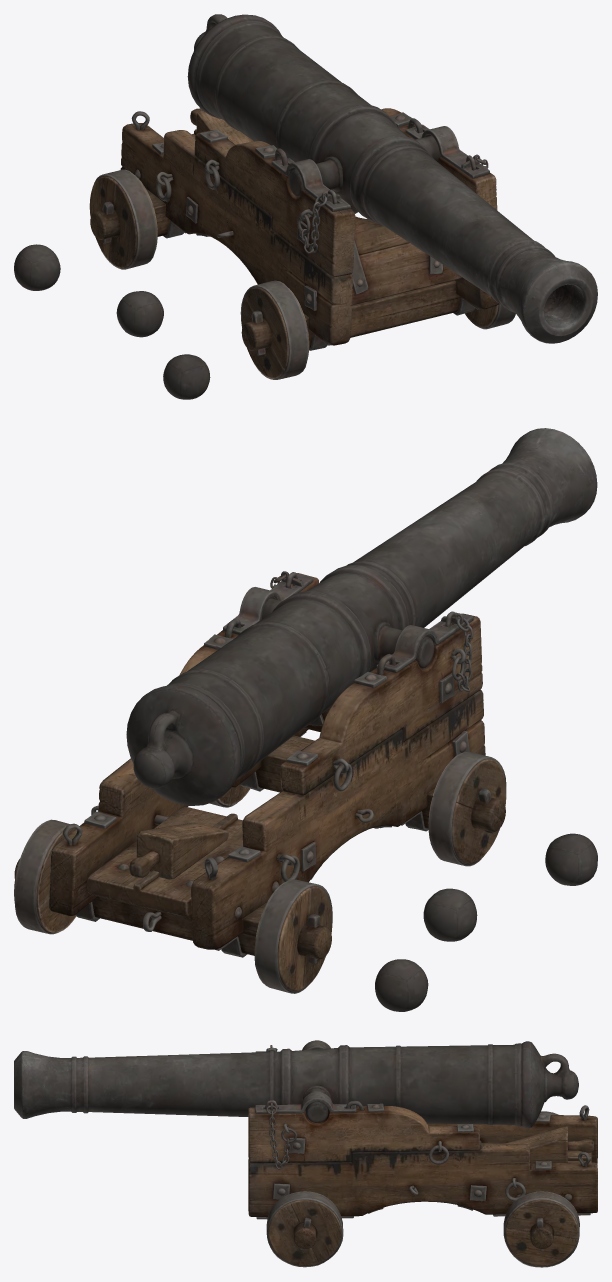
Rendered from cannon_01.glb.
The picture shows the model from 3 angles, top to bottom: view 1: azimuth 30°, elevation 25°; view 2: azimuth 150°, elevation 25°; view 3: azimuth 270°, elevation 25°; orthographic projection. The views are drawn at different scales.
Visible parts, largest first — view 1: cannon_01_ball_01; view 2: cannon_01_ball_01; view 3: cannon_01_ball_01.
Part boxes in pixels (<box>): cannon_01_ball_01: <box>14,14,597,399</box>; cannon_01_ball_01: <box>14,428,597,1011</box>; cannon_01_ball_01: <box>14,1040,597,1267</box>.
Bounding box in the file's own units: 1.23 × 0.7759 × 2.3.
Materials: 1 (1 with a texture image).
